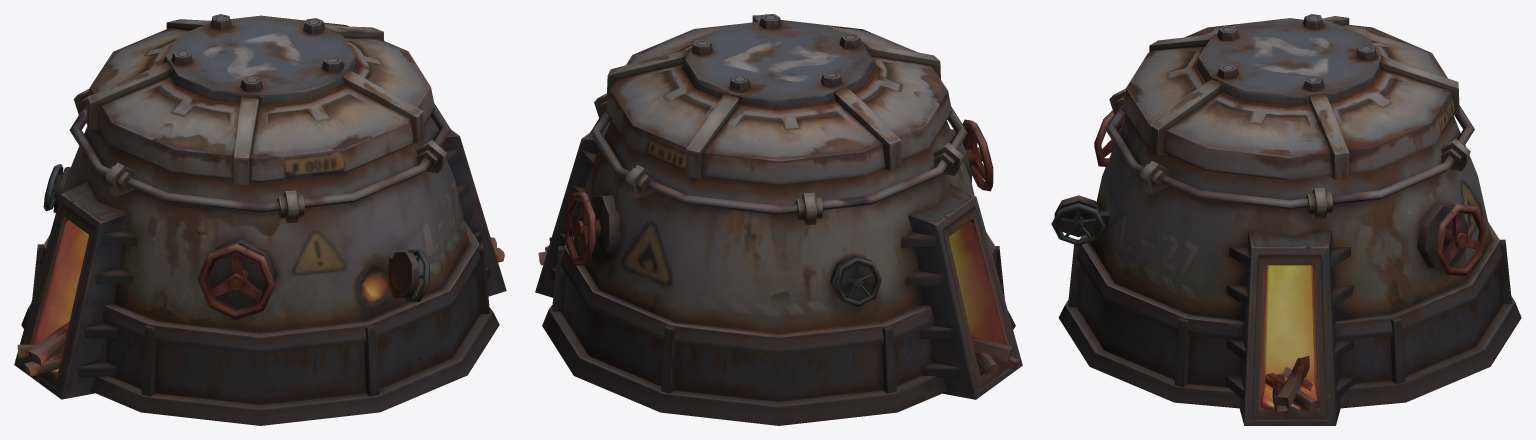
Rendered from PotFurnace.FBX.
The picture shows the model from 3 angles, left to right: view 1: azimuth 30°, elevation 25°; view 2: azimuth 150°, elevation 25°; view 3: azimuth 270°, elevation 25°; orthographic projection. The views are drawn at different scales.
Parts seen in each view (by area): view 1: PotFurnace; view 2: PotFurnace; view 3: PotFurnace.
Part boxes in pixels (left/top/right/bottom): PotFurnace: left=14, top=14, right=506, bottom=425; PotFurnace: left=535, top=14, right=1022, bottom=425; PotFurnace: left=1051, top=14, right=1521, bottom=425.
Size of the model in its own units: 2.24 by 1.27 by 1.99.
1 material, 1 textured.
